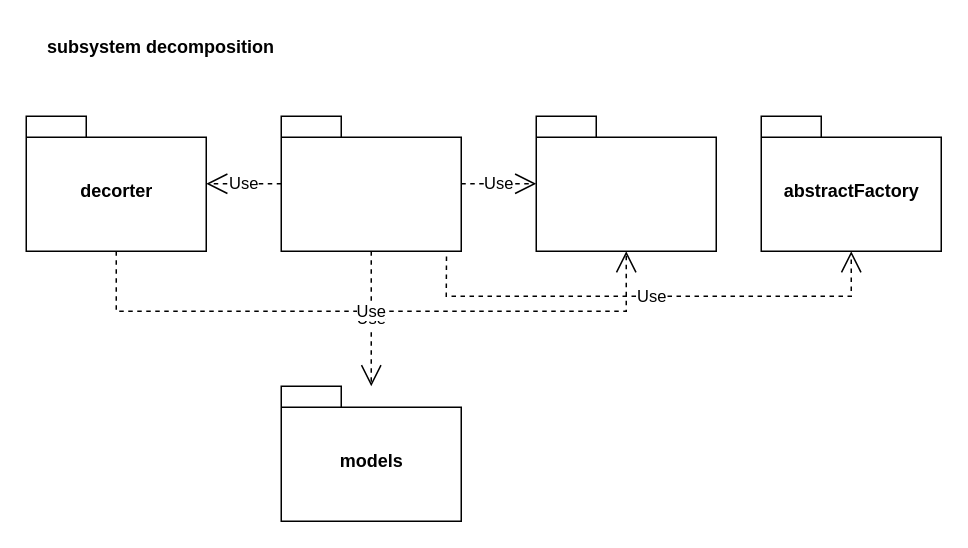
Image size: 968x548. Some labels were removed from this diagram. The box of each missing label's shape, as (x1, y1, x2, y2) in pixels:
controllers: (280, 115, 461, 251)
payment: (535, 115, 716, 251)
